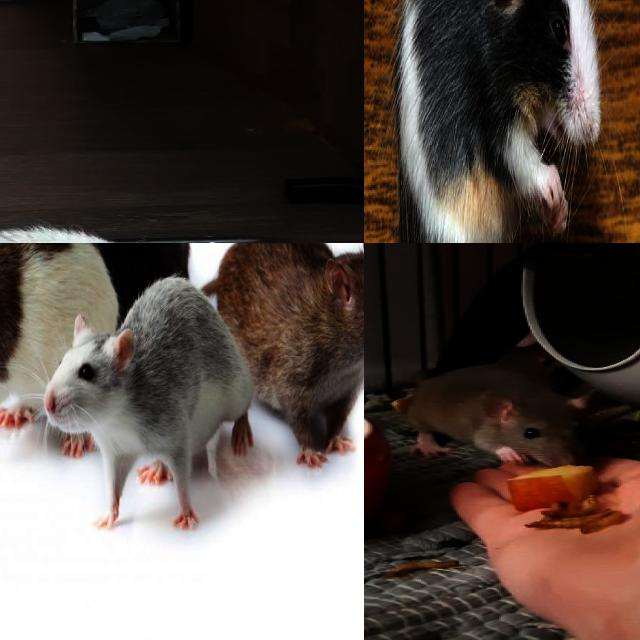rat: (395, 0, 602, 243), (47, 286, 252, 530), (210, 243, 364, 468), (0, 243, 114, 444), (411, 362, 598, 470), (0, 243, 190, 299)
